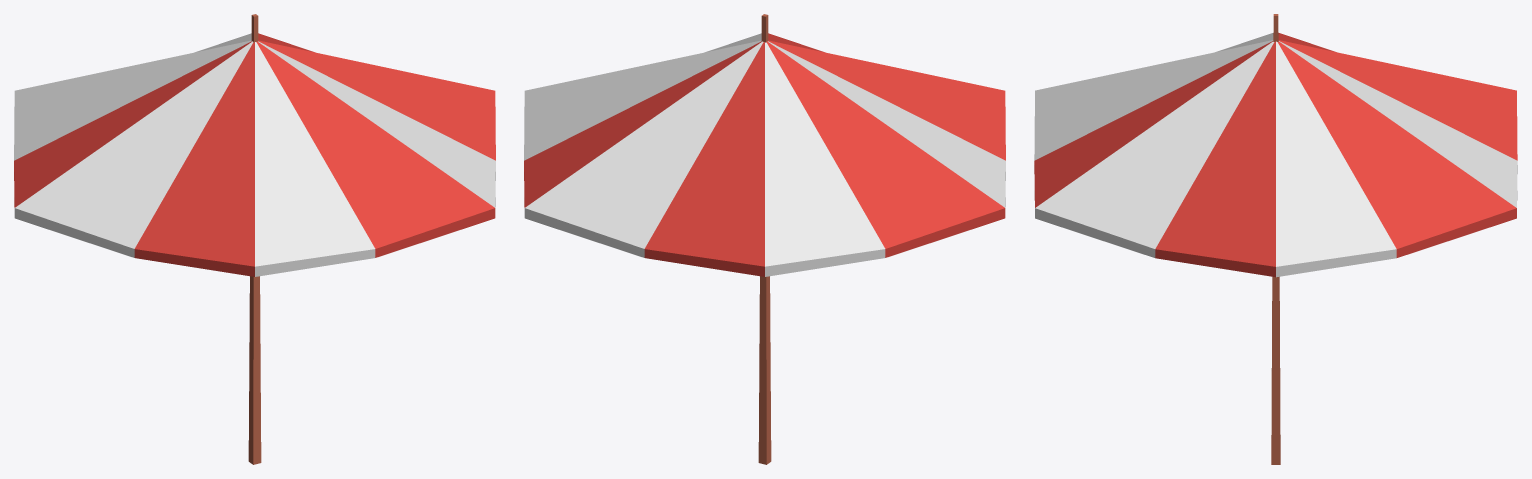
The model's file is Parasol2.fbx.
The picture shows the model from 3 angles, left to right: view 1: azimuth 30°, elevation 25°; view 2: azimuth 150°, elevation 25°; view 3: azimuth 270°, elevation 25°; orthographic projection.
Parts seen in each view (by area): view 1: Cylinder.001; view 2: Cylinder.001; view 3: Cylinder.001.
Part boxes in pixels (x1,y1,x2,y2): Cylinder.001: (14, 14, 495, 464); Cylinder.001: (524, 14, 1005, 464); Cylinder.001: (1034, 14, 1517, 464).
Size of the model in its own units: 403 by 358 by 350.
